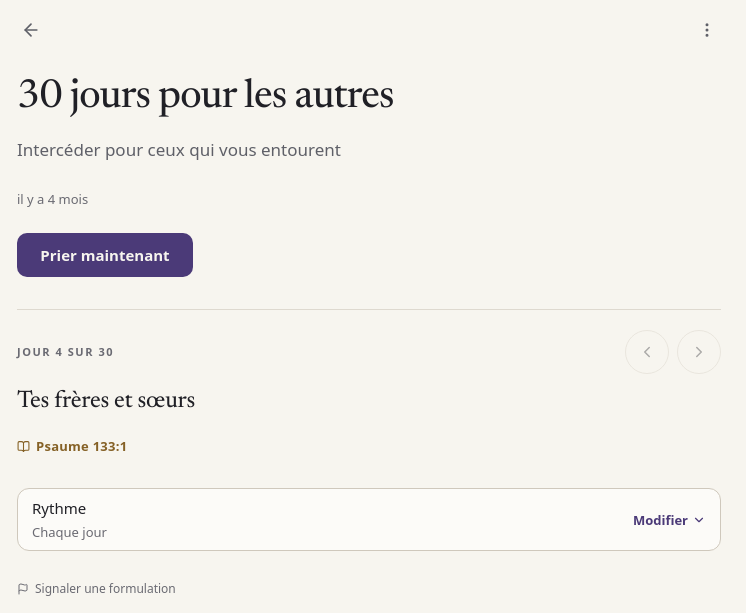
Test: sharing a running plan › offers the plan, not a group copy of the run, in the ⋯ menu
This screenshot has width=746, height=613.
What coordinates should you click on to do the following:
click the button named "Options"
I would click on:
 (707, 30)
Its box is x1=685 y1=8 x2=729 y2=52.
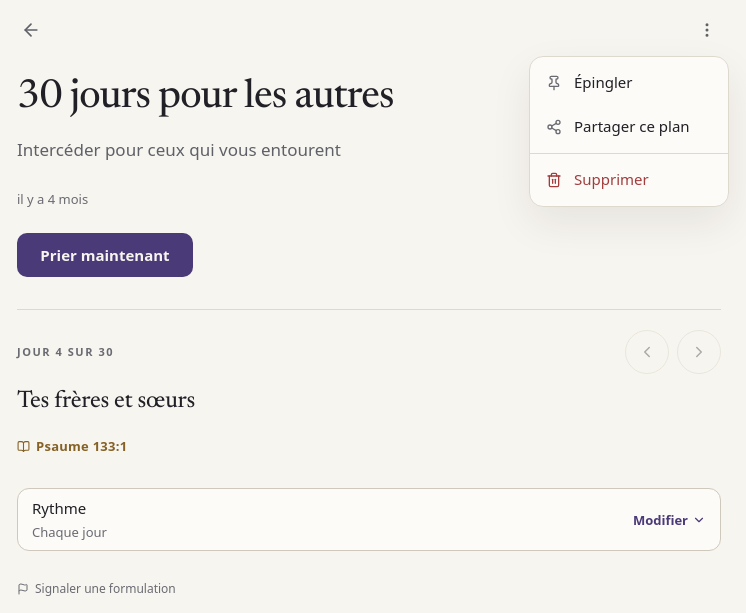
Now the menu item "Partager ce plan" is shown, box x1=530 y1=105 x2=728 y2=149
